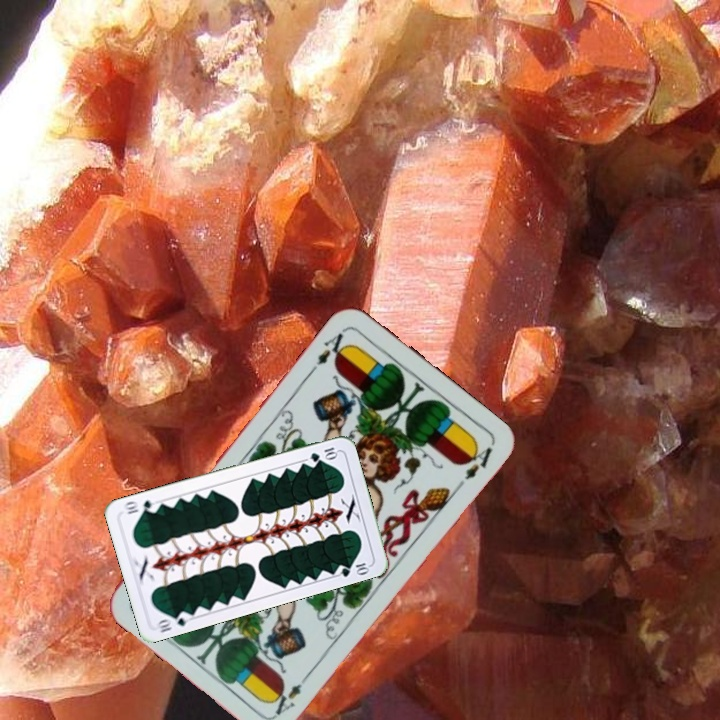EA: (306, 324, 352, 375), (267, 669, 313, 718)
G10: (152, 608, 191, 635), (306, 443, 340, 464)
